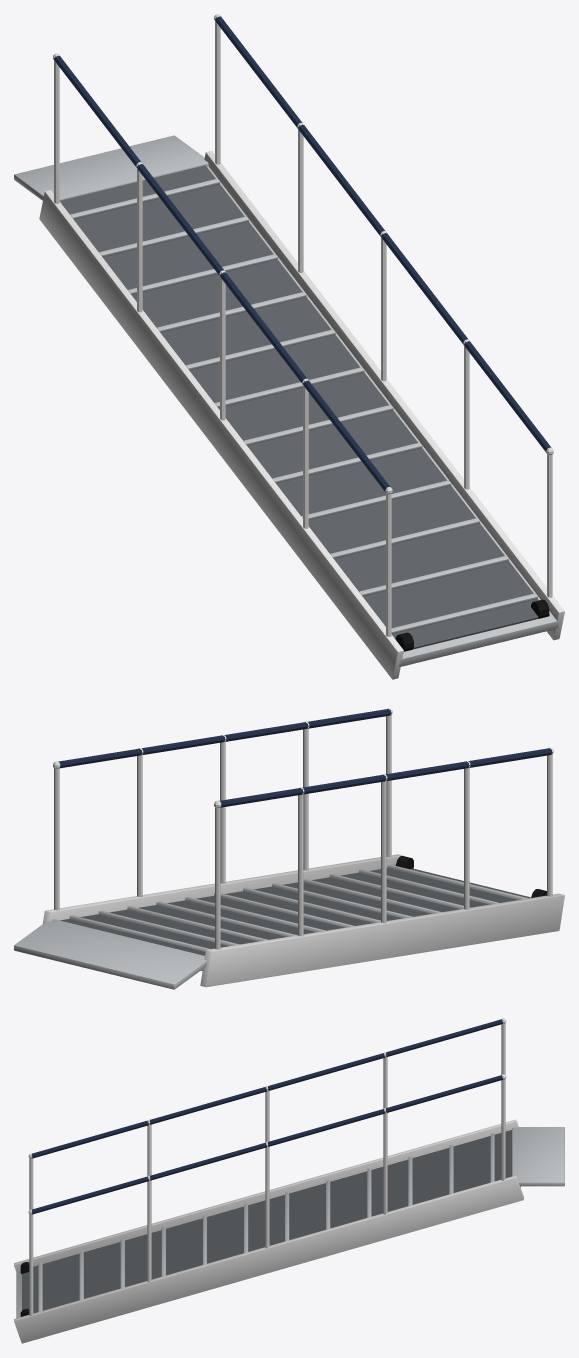
Rendered from marlin_gangway.glb.
3 renders of one model, top to bottom at view 1: azimuth 30°, elevation 25°; view 2: azimuth 150°, elevation 25°; view 3: azimuth 270°, elevation 25°, orthographic. The views are drawn at different scales.
Visible parts, largest first — view 1: marlin_gangway; view 2: marlin_gangway; view 3: marlin_gangway.
Boxes of the visible parts, x1,y1,x2,y2 form: marlin_gangway: [14, 14, 564, 679]; marlin_gangway: [14, 708, 564, 989]; marlin_gangway: [14, 1018, 564, 1343].
Bounding box in the file's own units: 1.04 × 2.24 × 4.17.
